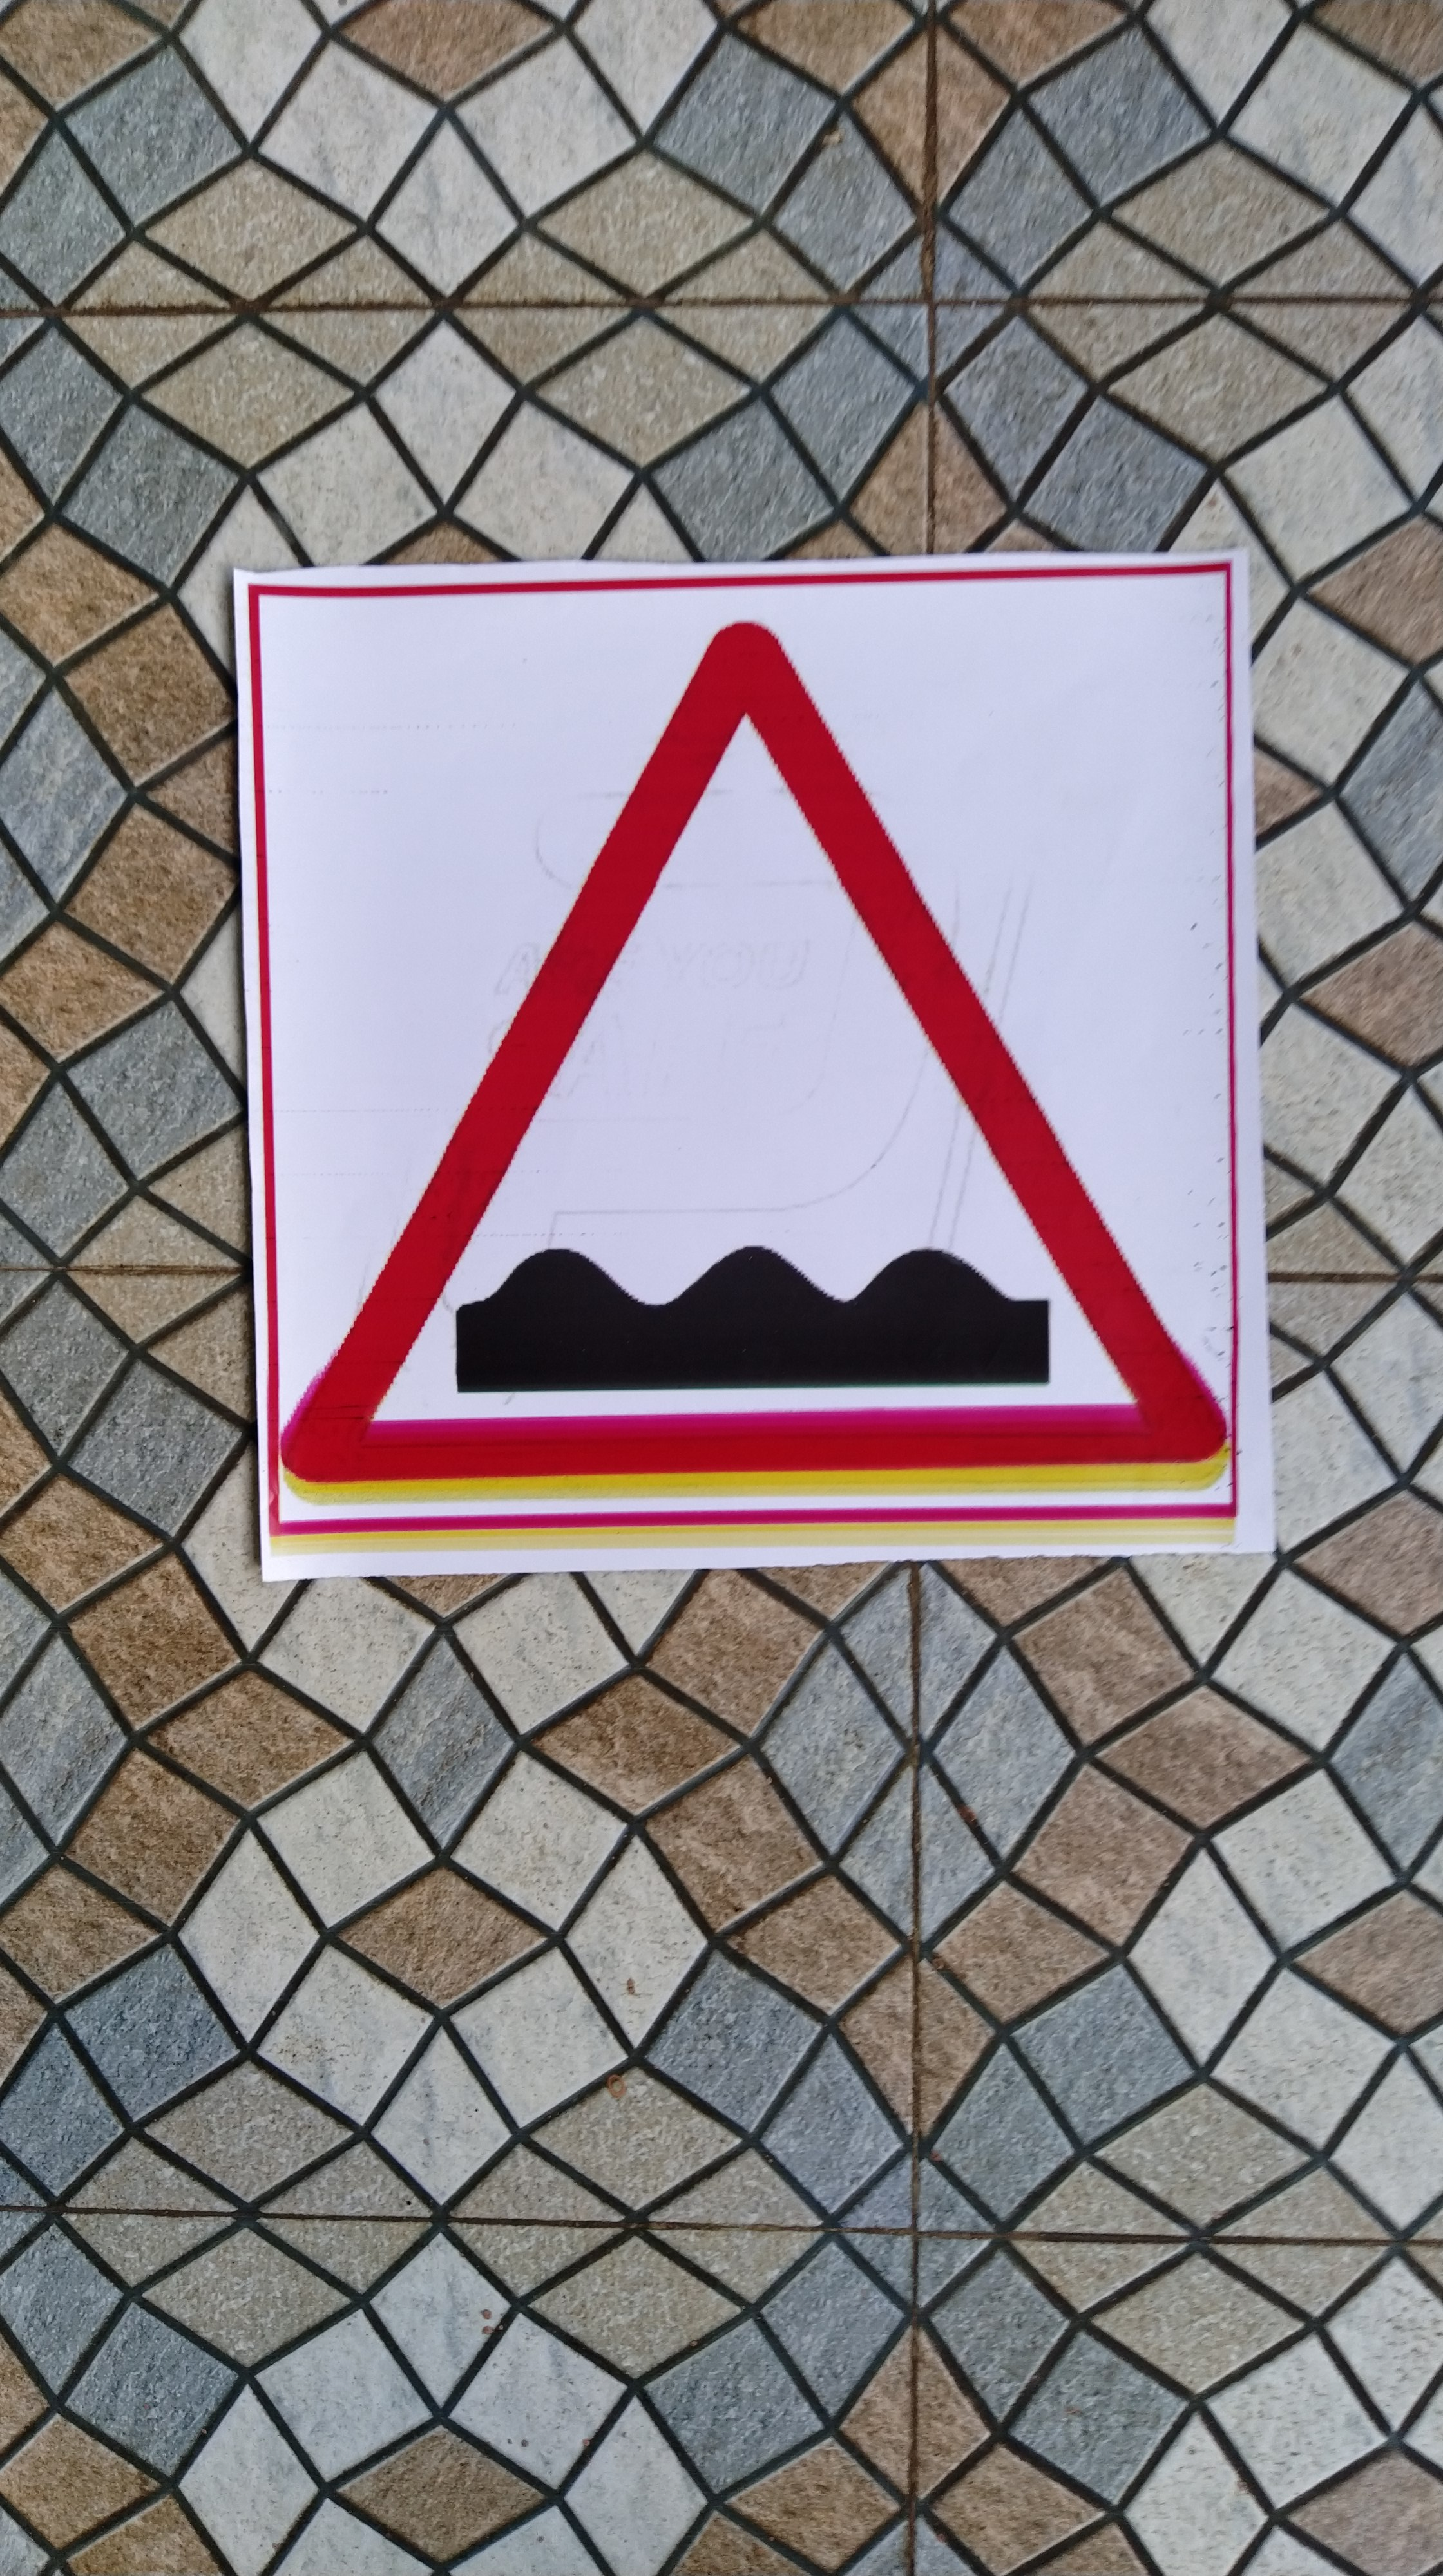speed breaker: (241, 582, 1275, 1564)
